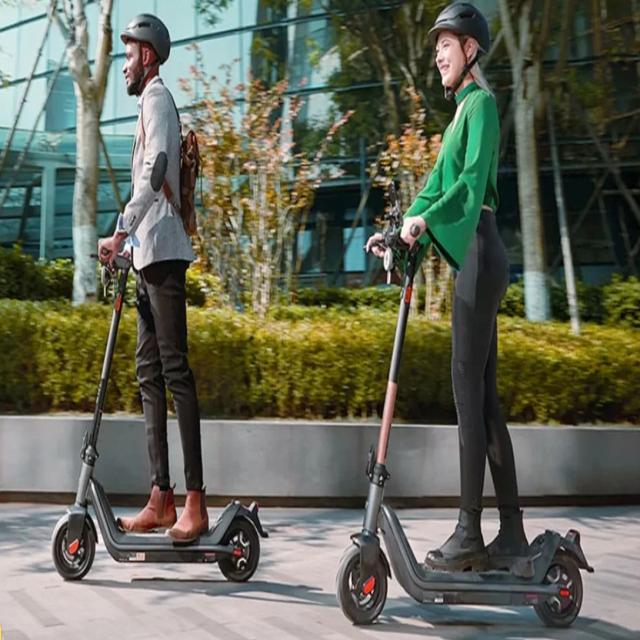helmet: (336, 0, 597, 625), (51, 3, 270, 596)
